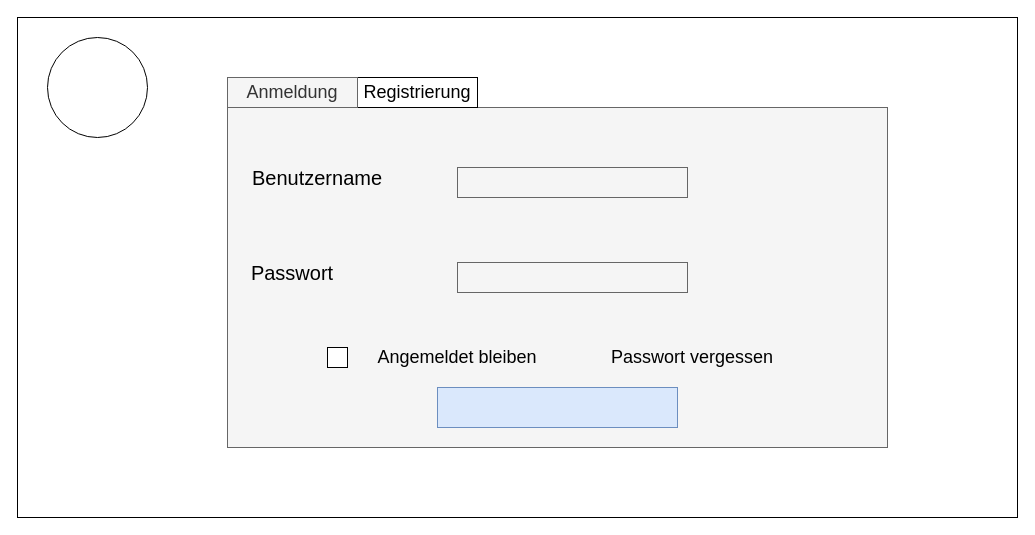
The diagram is 1035 pixels wide and 535 high, and some of its shapes have lost their labels. The box of each missing label's shape, as (x1, y1, x2, y2) in pixels:
Anmelden: (436, 386, 678, 428)
Logo: (46, 36, 148, 138)
